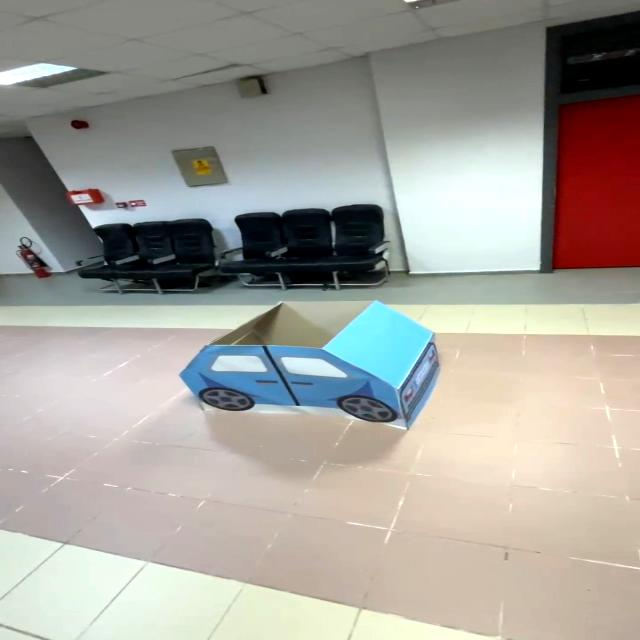blue_car: (155, 291, 471, 438)
